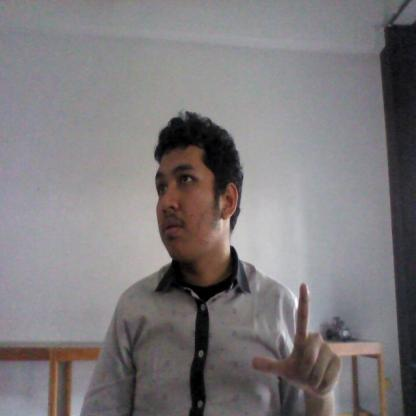L: (247, 274, 351, 404)
